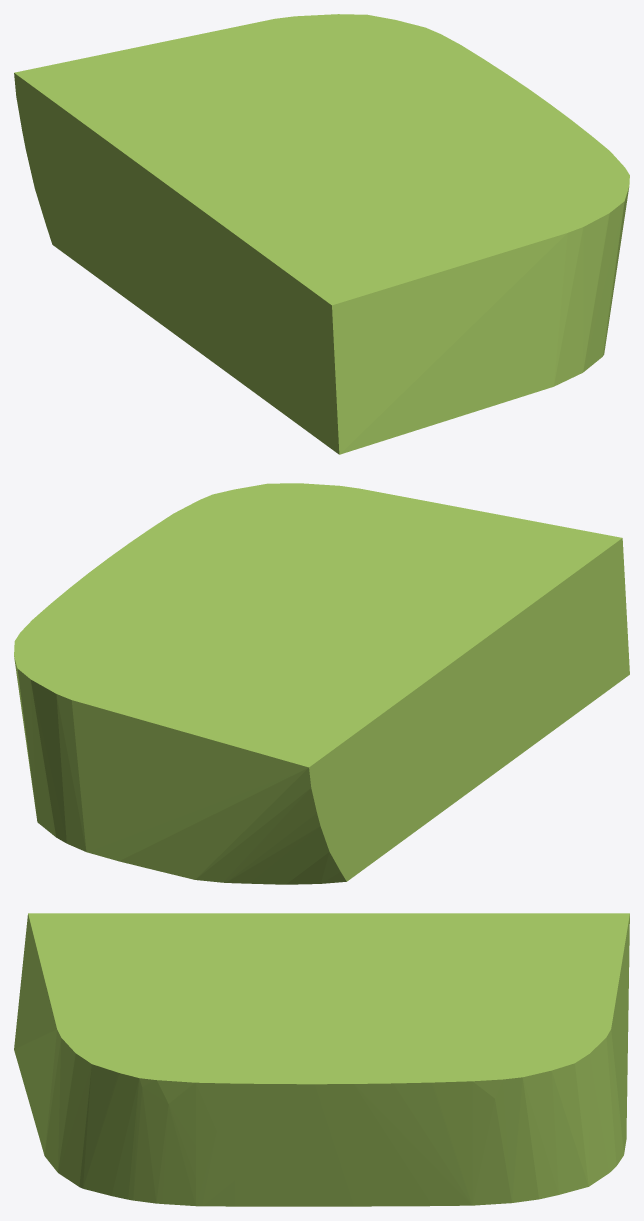
Rendered from arch_peg_convex_coll_010.obj.
3 renders of one model, top to bottom at view 1: azimuth 30°, elevation 25°; view 2: azimuth 150°, elevation 25°; view 3: azimuth 270°, elevation 25°, orthographic. The views are drawn at different scales.
Bounding box in the file's own units: 0.0184 × 0.00685 × 0.0281.
